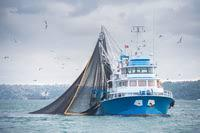Ship: (31, 22, 181, 119)
